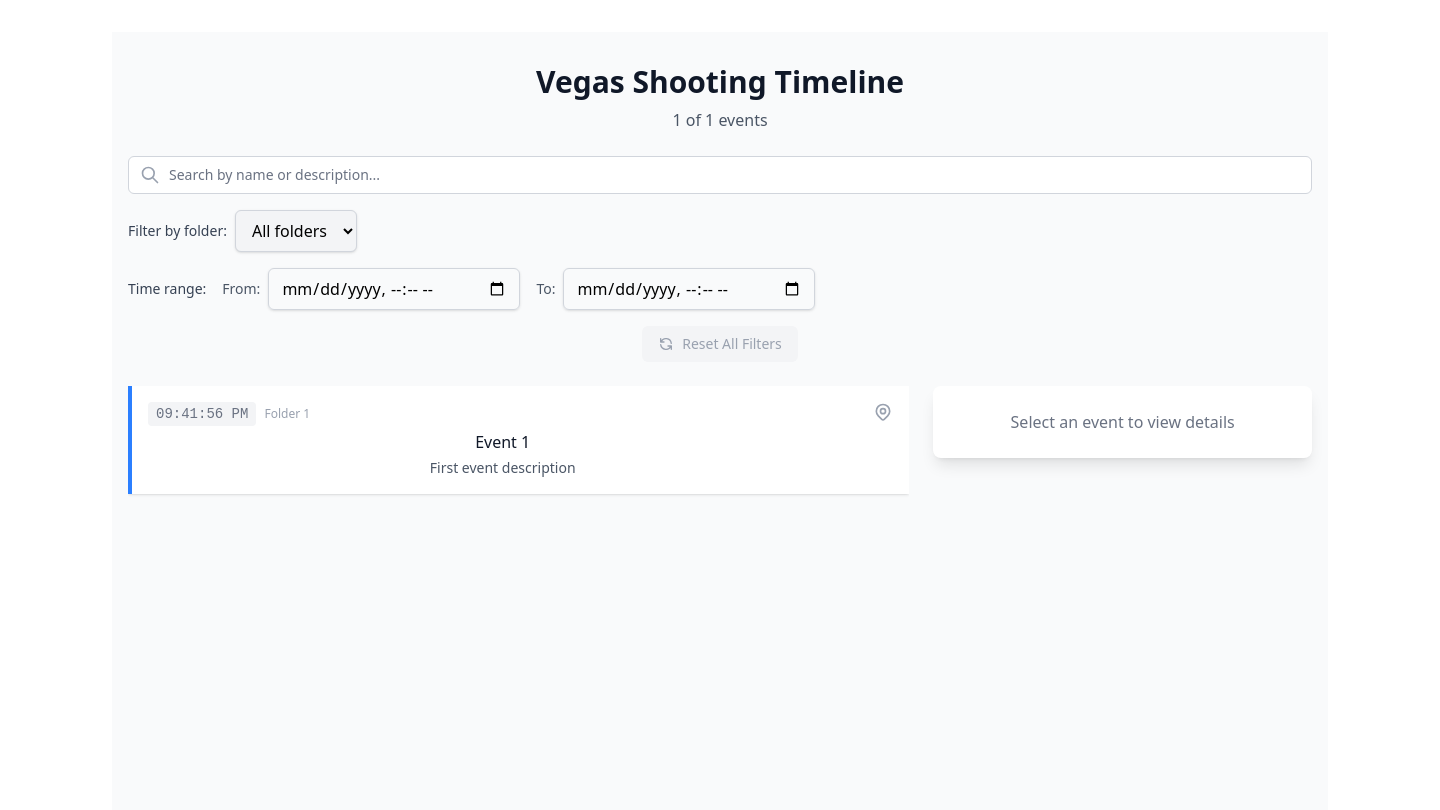
Test: Timeline - Detail Panel Skeleton States › hides detail skeleton on successful detail load
This screenshot has width=1440, height=810.
Click on event
Click the heading "Event 1" at (503, 442), box [475,431,530,453]
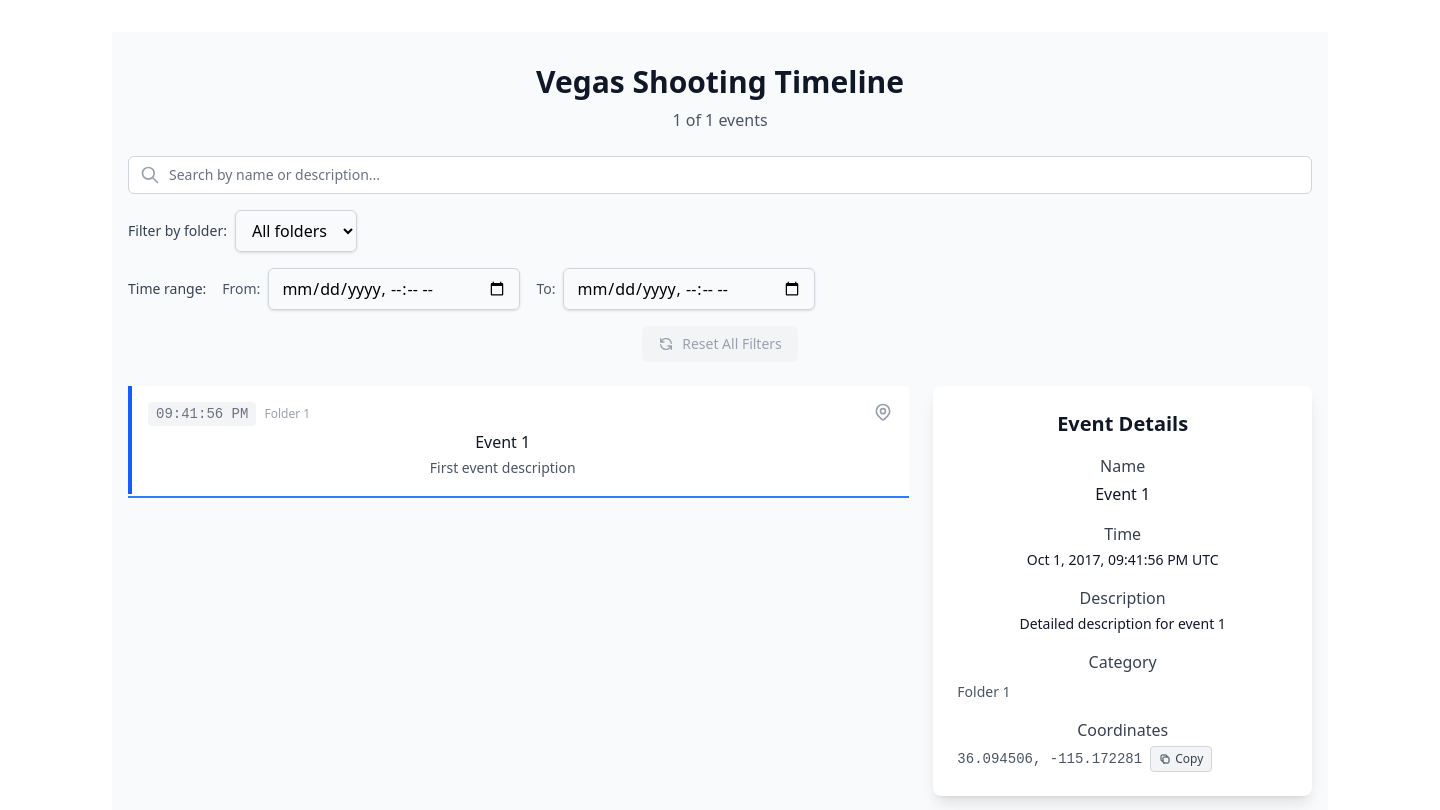
Check: the text "Detailed description for event 1" is shown, box [1019,614,1226,633]
